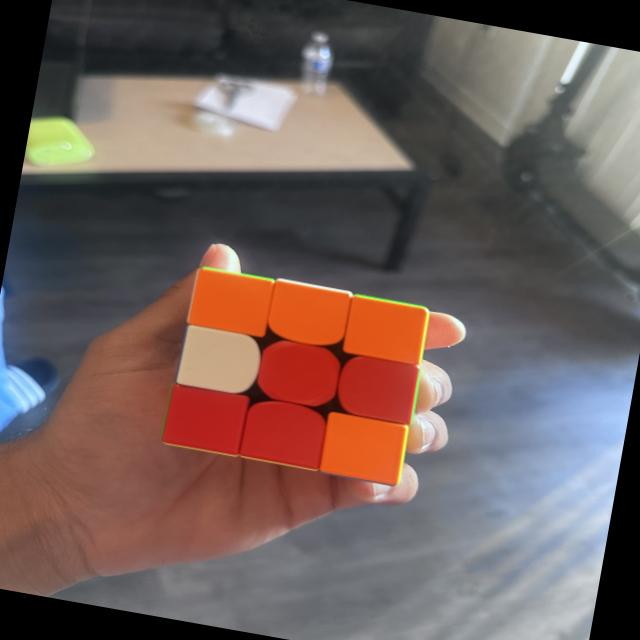sticker: (236, 394, 332, 474), (250, 335, 346, 413), (316, 409, 410, 488), (329, 350, 422, 429), (159, 380, 251, 459), (174, 322, 266, 400), (262, 276, 354, 353), (338, 292, 430, 369), (184, 264, 276, 340)
